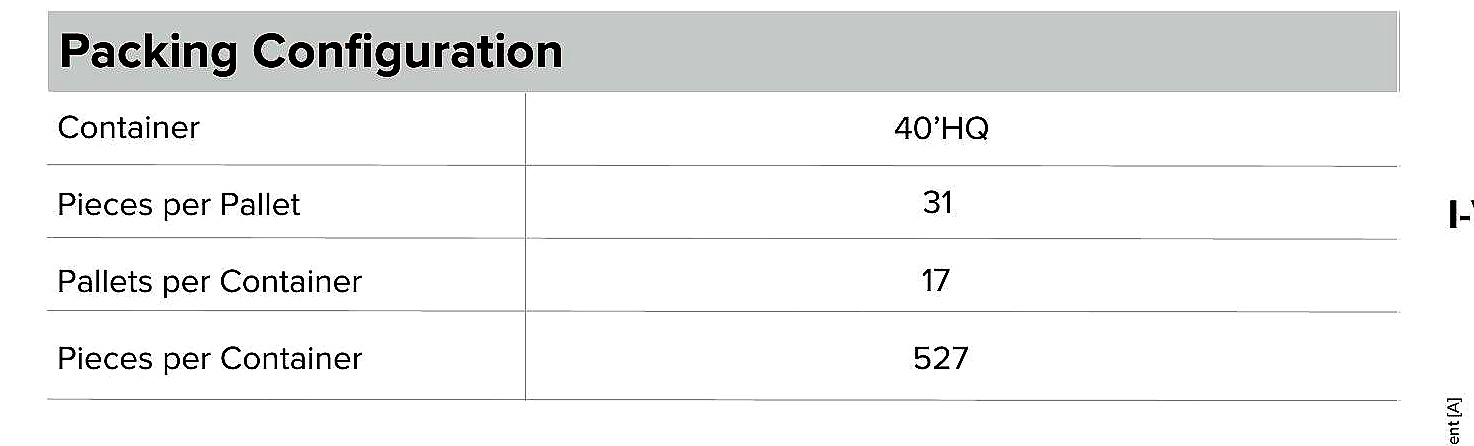table: (35, 5, 1407, 411)
table column: (534, 9, 1392, 402), (47, 12, 528, 397)
table name: (46, 16, 1393, 94)
table row: (43, 314, 1400, 396), (43, 12, 1397, 93), (44, 169, 1402, 237), (44, 243, 1404, 310), (45, 97, 1402, 163)
table row header: (51, 12, 522, 397)
table spanning cell: (45, 11, 1400, 95)
